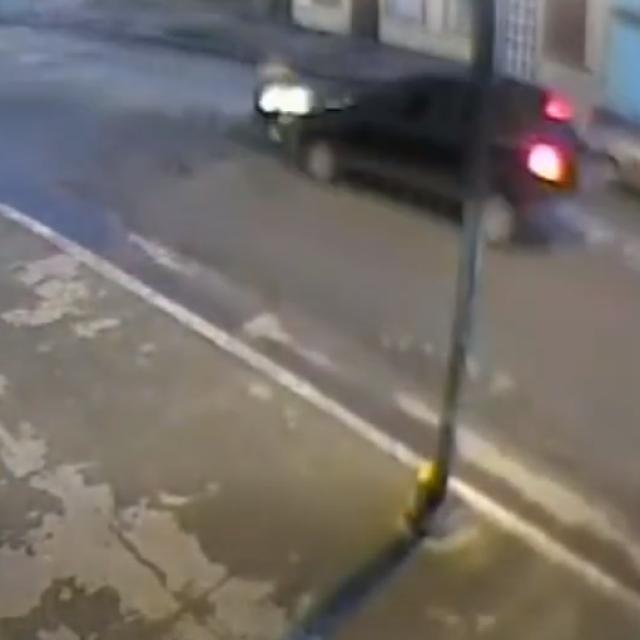accident: (251, 42, 584, 250)
